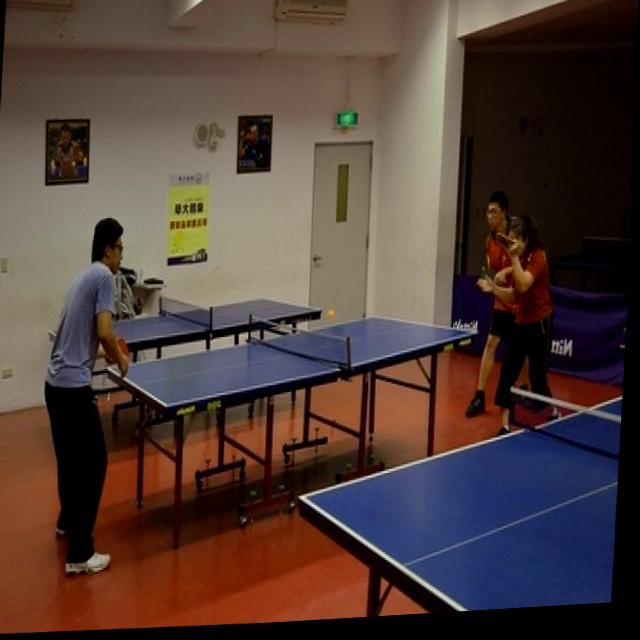TT Net: (504, 383, 621, 464), (246, 311, 352, 372), (157, 293, 214, 331)
TT Racket: (112, 334, 132, 359), (492, 230, 518, 247)
TT Table: (302, 394, 622, 611), (108, 315, 476, 405), (50, 297, 318, 351)
